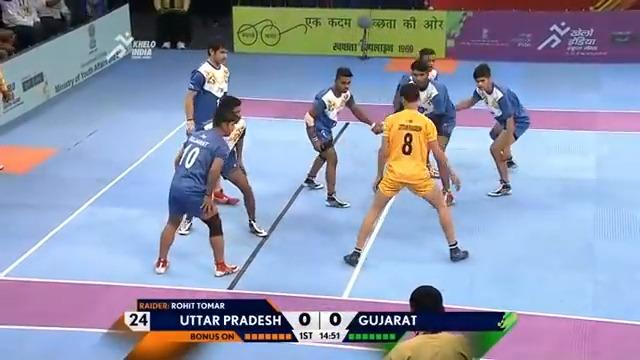Player: (179, 39, 268, 238), (152, 102, 242, 277), (300, 64, 383, 209), (454, 62, 530, 197), (391, 64, 459, 210)
Raider: (342, 82, 470, 268)
referee: (382, 284, 473, 359)
